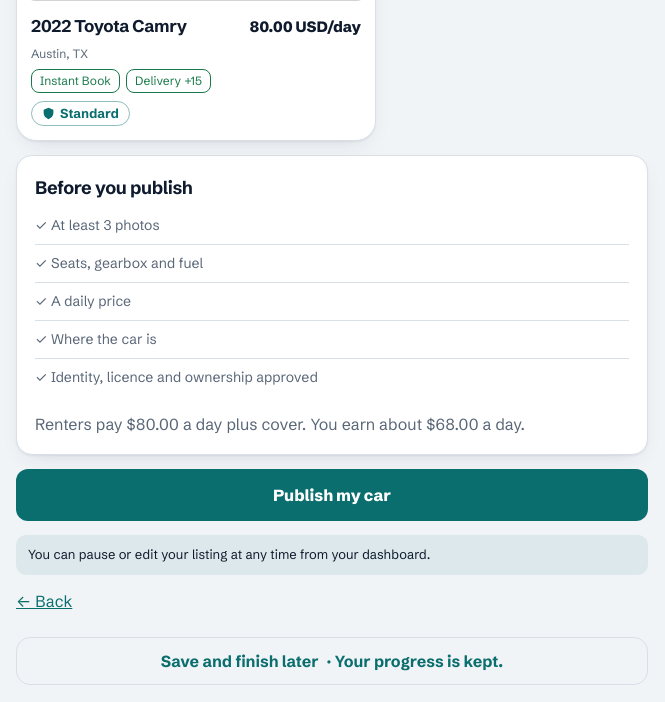
Test: List your car: preview and publish › publishes: creates with the right payload (fee in currency units, cents for price), activates, then offers next steps
The image size is (665, 702).
(page scrolled)
Expected: the text "You earn about $68.00 a day" is shown, [35,414,525,434]
Step 1. Click the button "Publish my car" → (332, 495), box [16,469,648,521]
(page scrolled)
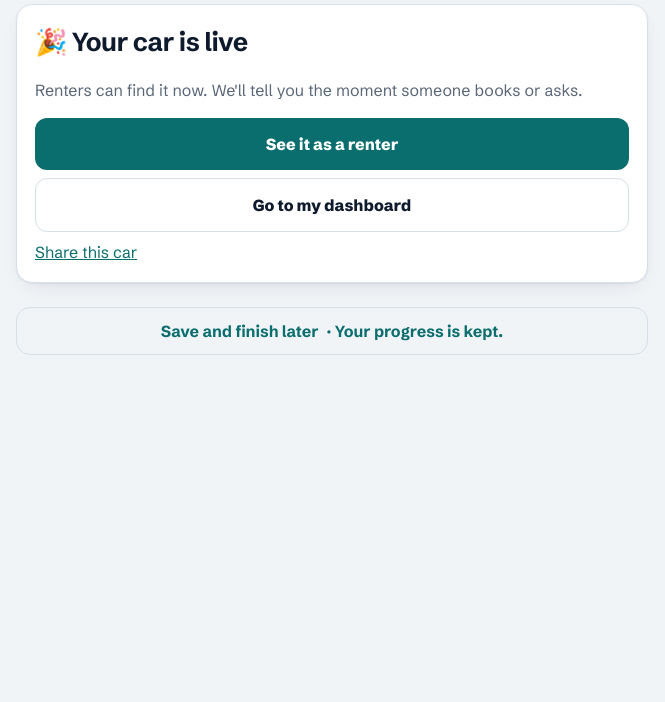
Expected: the heading "🎉 Your car is live" is shown, [35,26,248,58]
Expected: the button "See it as a renter" is shown, [35,118,629,170]
